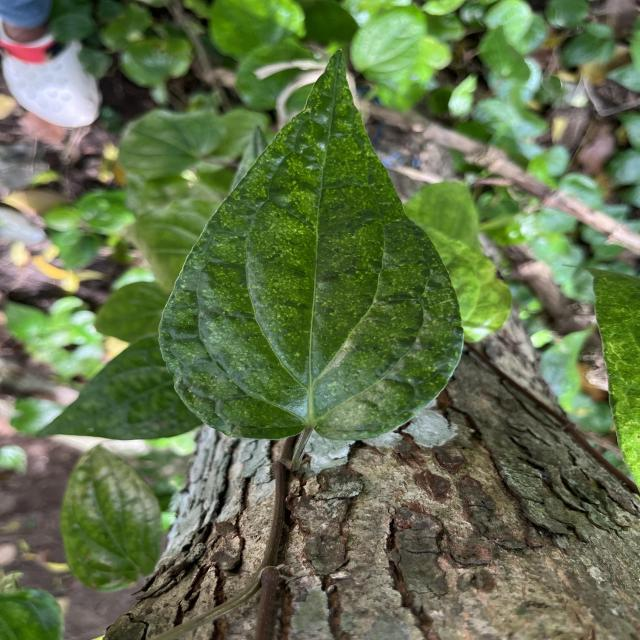Piper betle: (154, 43, 466, 444)
